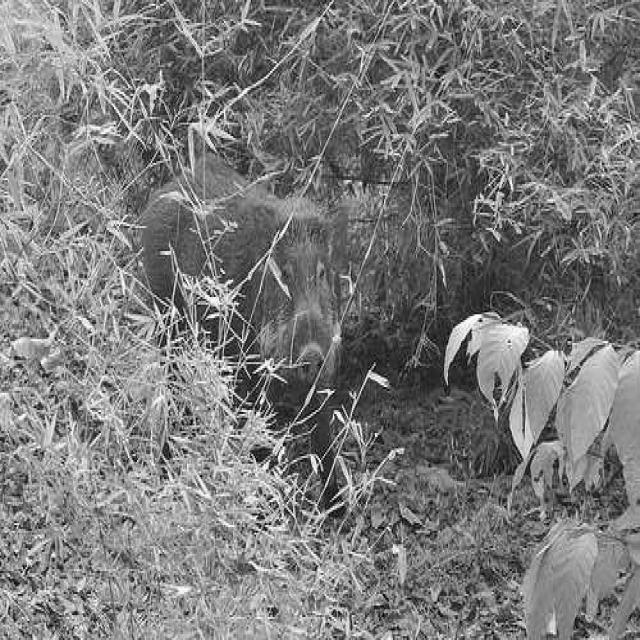boar: (142, 151, 344, 400)
